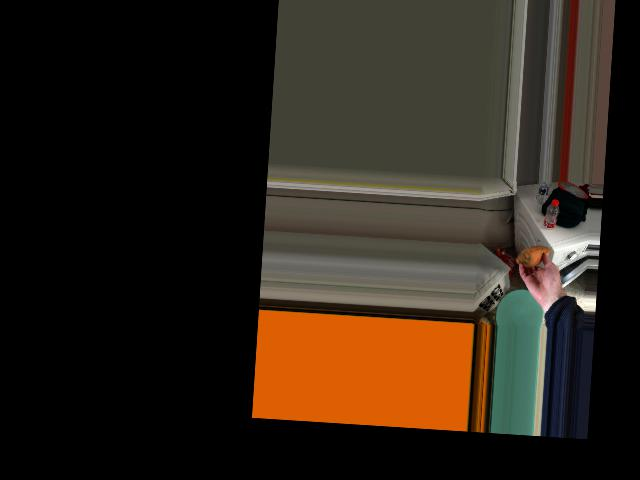sweet_potato: (519, 244, 549, 271)
